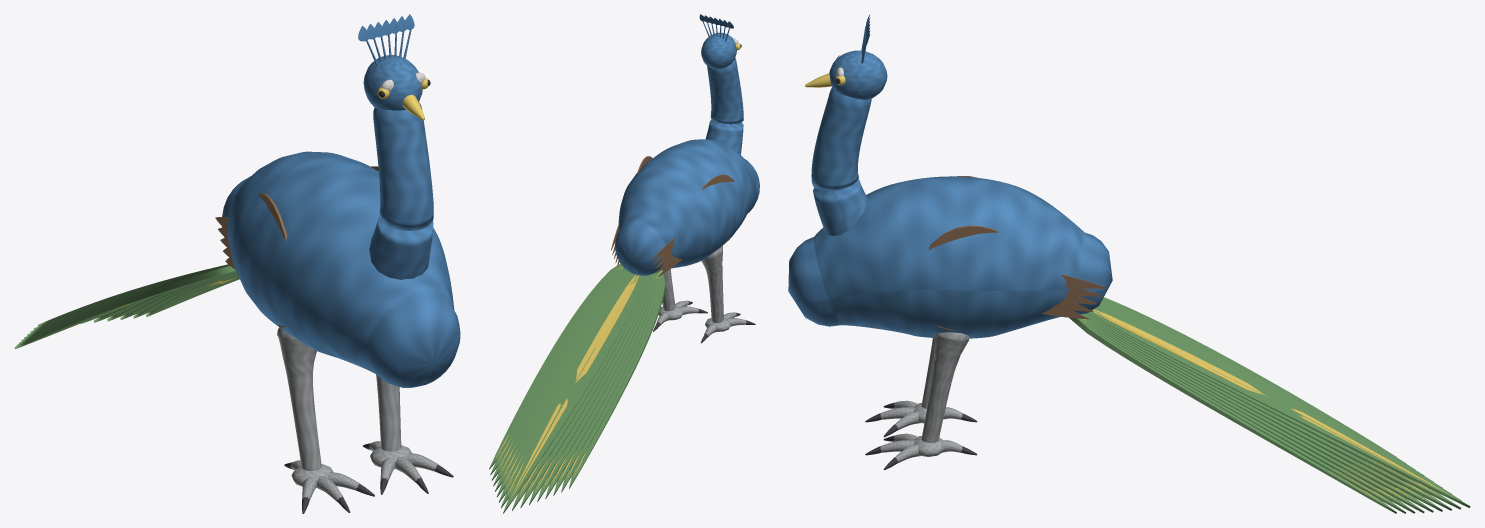
File: birds-and-reptiles-hd-indian-peacock-95e3a0fd__28094.glb
3 views of the same model, side by side, from view 1: azimuth 30°, elevation 25°; view 2: azimuth 150°, elevation 25°; view 3: azimuth 270°, elevation 25° (orthographic). The views are drawn at different scales.
Parts seen in each view (by area): view 1: indian-peacock; view 2: indian-peacock; view 3: indian-peacock.
Boxes of the visible parts, <box> form: indian-peacock: <box>14,14,460,513</box>; indian-peacock: <box>489,14,759,513</box>; indian-peacock: <box>788,14,1470,513</box>.
Size of the model in its own units: 0.3963 by 1.37 by 1.75.
8 materials, 6 textured.
